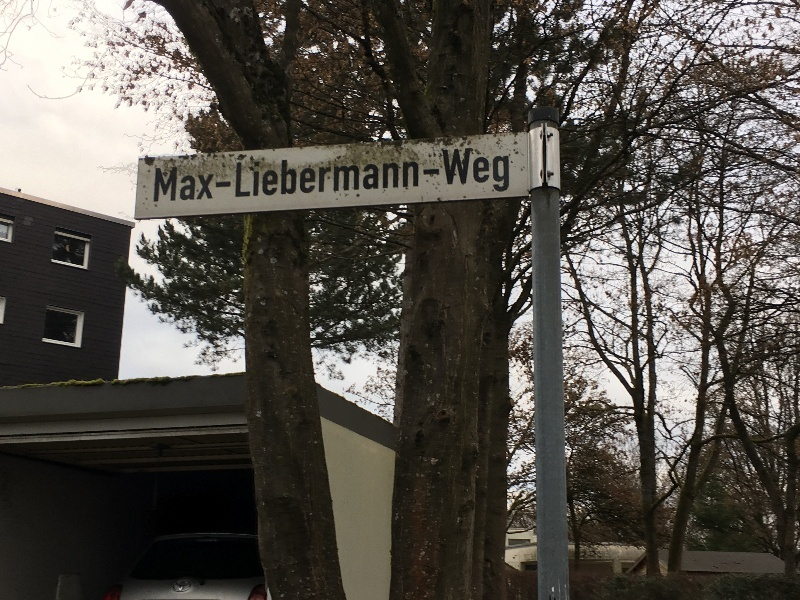text: (161, 145, 176, 203), (177, 145, 192, 203), (193, 145, 208, 203), (209, 145, 224, 203), (225, 145, 240, 203), (241, 145, 256, 203), (257, 145, 272, 203), (273, 145, 288, 203), (289, 145, 304, 203), (305, 145, 320, 203), (321, 145, 336, 203), (337, 145, 352, 203), (353, 145, 368, 203), (369, 145, 384, 203), (385, 145, 400, 203), (401, 145, 416, 203), (417, 145, 432, 203), (433, 145, 448, 203), (449, 145, 464, 203), (465, 145, 480, 203), (481, 145, 496, 203), (497, 145, 510, 203), (156, 145, 160, 203)
